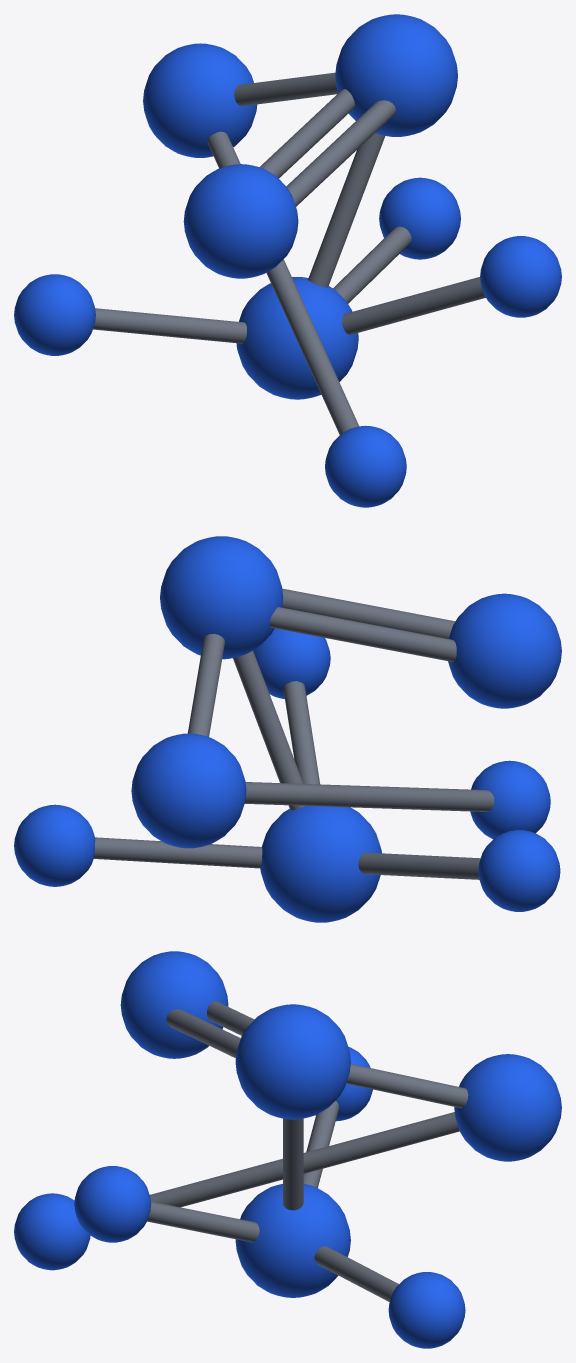
3 renders of one model, top to bottom at view 1: azimuth 30°, elevation 25°; view 2: azimuth 150°, elevation 25°; view 3: azimuth 270°, elevation 25°, orthographic. The views are drawn at different scales.
Parts seen in each view (by area): view 1: C2, O1, O2, C1, H4, H1, H2, H3, object 16, object 9, object 11, object 10 (+4 smaller); view 2: C2, C1, O2, O1, object 16, H2, H3, H4, object 13, H1, object 12, object 14 (+4 smaller); view 3: C2, C1, O2, O1, object 16, H1, H3, H4, object 15, object 10, object 9, object 12 (+4 smaller).
Part boxes in pixels (x1,y1,x2,y2): C2: (335, 14, 457, 136); O1: (183, 164, 298, 278); O2: (143, 43, 257, 157); C1: (236, 277, 358, 399); H4: (325, 425, 406, 507); H1: (480, 236, 561, 317); H2: (14, 274, 95, 355); H3: (379, 177, 460, 259); object 16: (207, 131, 358, 434); object 9: (308, 133, 385, 287); object 11: (93, 308, 246, 343); object 10: (342, 277, 485, 334); C2: (160, 536, 283, 659); C1: (260, 806, 381, 922); O2: (131, 733, 246, 848); O1: (448, 593, 561, 708); object 16: (244, 782, 494, 811); H2: (478, 830, 560, 911); H3: (14, 804, 95, 886); H4: (470, 760, 550, 839); object 13: (270, 607, 456, 661); H1: (253, 628, 330, 698); object 12: (93, 837, 262, 868); object 14: (282, 588, 455, 638); C2: (235, 1004, 350, 1119); C1: (235, 1184, 350, 1297); O2: (454, 1054, 561, 1161); O1: (120, 951, 228, 1058); object 16: (150, 1112, 459, 1207); H1: (74, 1166, 151, 1242); H3: (388, 1272, 465, 1348); H4: (14, 1193, 90, 1270); object 15: (346, 1064, 468, 1108); object 10: (147, 1201, 259, 1242); object 9: (283, 1118, 303, 1210); object 12: (314, 1246, 398, 1301).
Bounding box in the file's own units: 0.4099 × 0.2837 × 0.4271.
